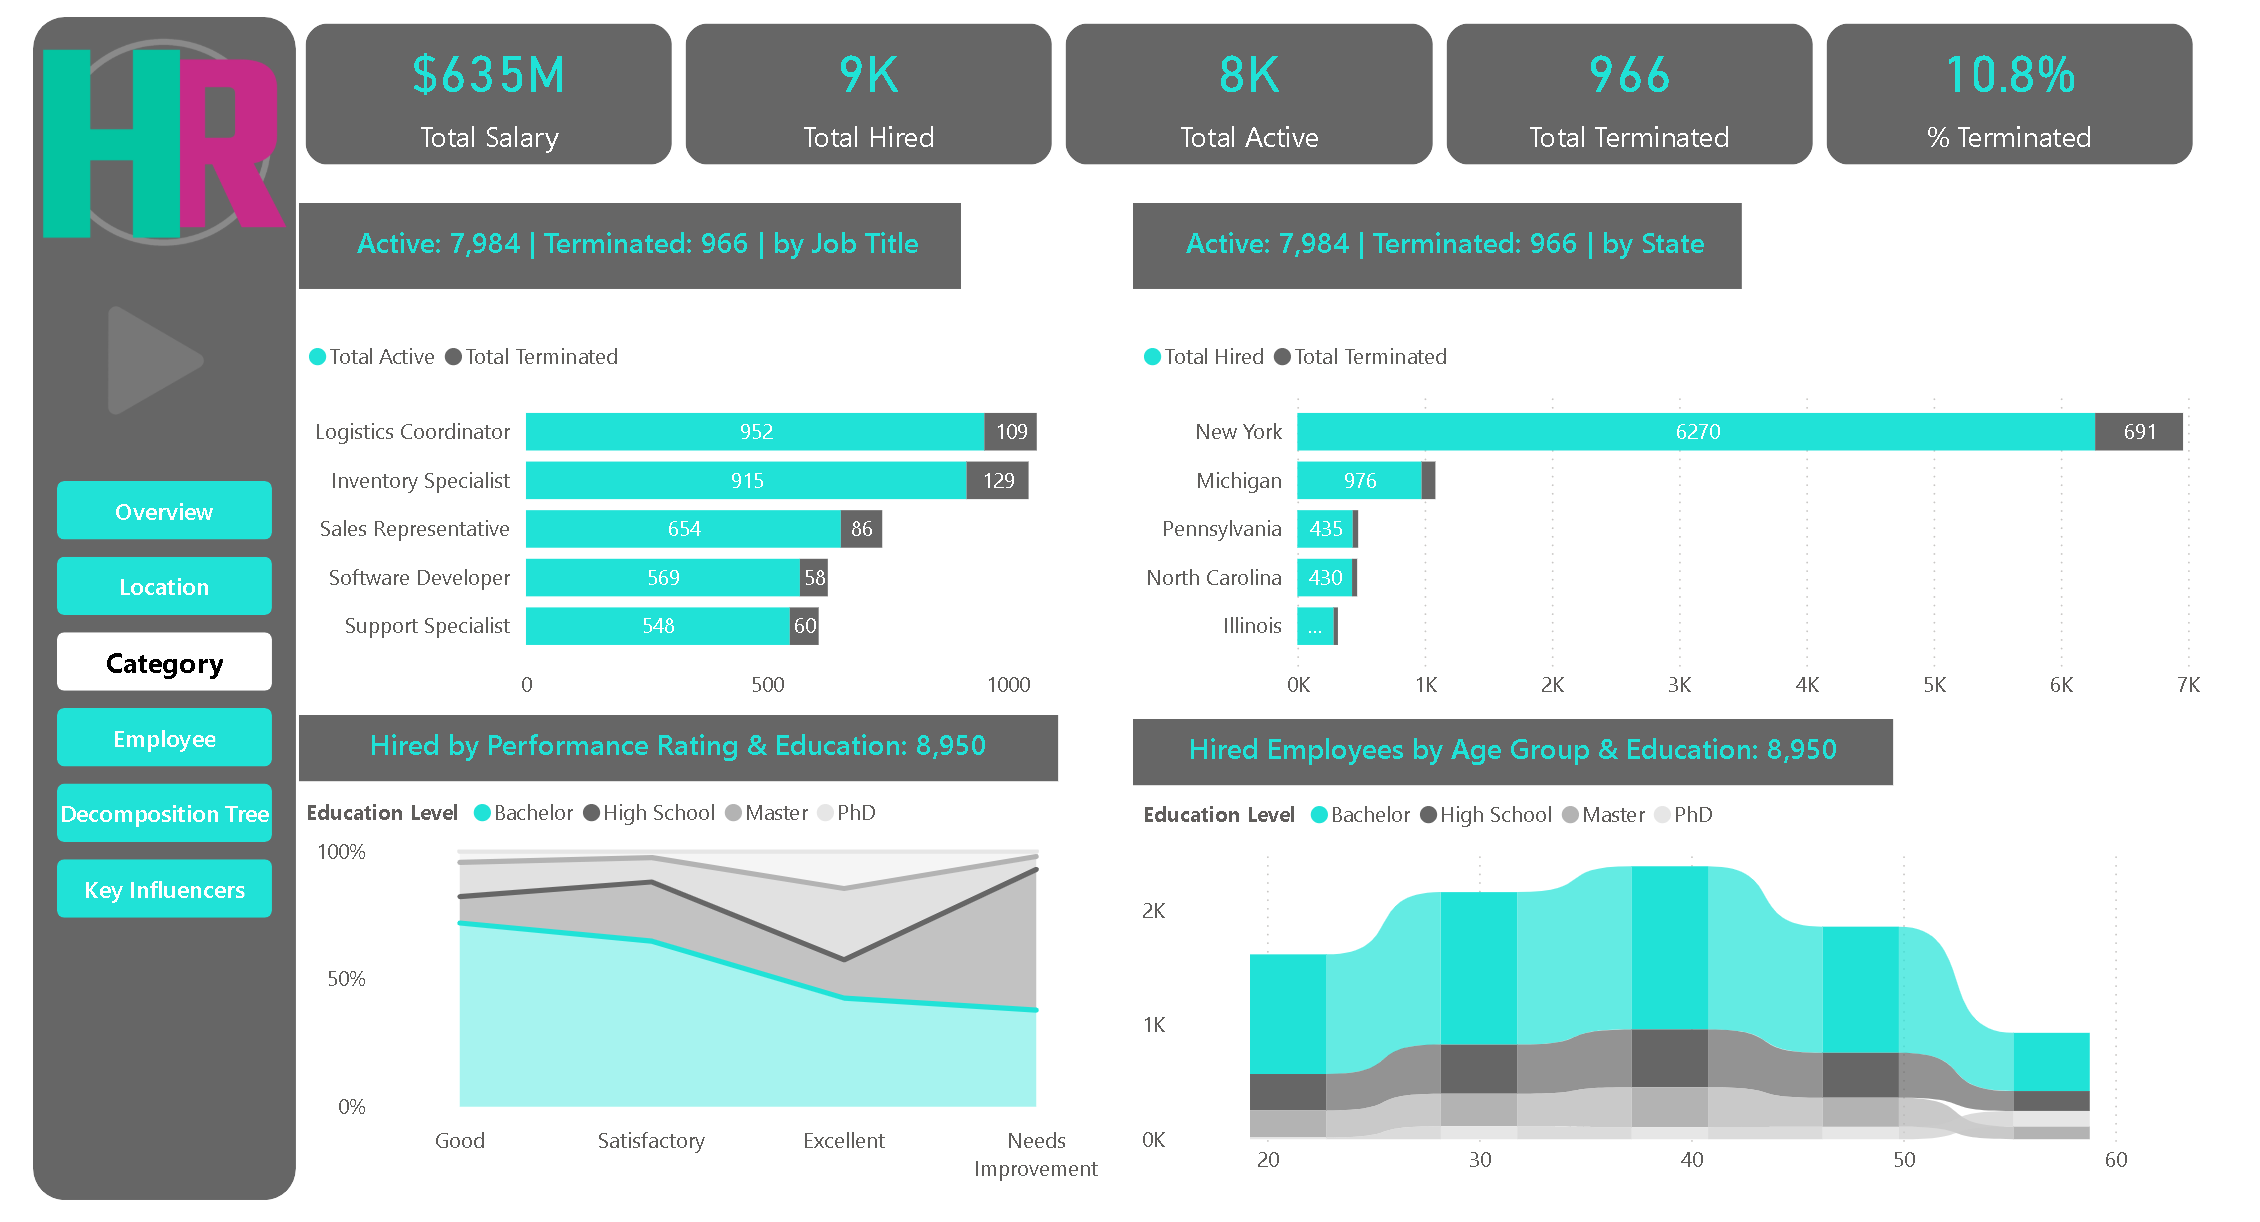

What the dashboard file says about the page in this screenshot:
{"tool":"powerbi","page":{"name":"Category","canvas":[1280,720],"ordinal":2},"visuals":[{"type":"shape","box":[0,18.5,152.9,688.1],"z":0},{"type":"cardVisual","fields":{"Data":["DAX Measures.Total Salary","DAX Measures.Total Hired","DAX Measures.Total Active","DAX Measures.Total Terminated","DAX Measures.% Terminated"]},"box":[153.9,17.8,1111.5,92.4],"z":1000},{"type":"card","fields":{"Values":["DAX Measures.HiredTerminatedTitle"]},"box":[155,126.7,385,50],"z":2000},{"type":"image","box":[0,18.3,153.3,145],"z":3000},{"type":"barChart","fields":{"Category":["HumanResources.Job Title"],"Y":["DAX Measures.Total Active","DAX Measures.Total Terminated"]},"box":[155,196.7,485,228.3],"z":4000},{"type":"barChart","fields":{"Y":["DAX Measures.Total Hired","DAX Measures.Total Terminated"],"Category":["HumanResources.State"]},"box":[640,196.7,625,228.3],"z":5000},{"type":"card","fields":{"Values":["DAX Measures.Hired Terminated by State"]},"box":[640,126.7,353.3,50],"z":6000},{"type":"ribbonChart","fields":{"Category":["HumanResources.Age (bins)"],"Y":["DAX Measures.Total Hired"],"Series":["HumanResources.Education Level"]},"box":[640,463.3,625,238.3],"z":7000},{"type":"hundredPercentStackedAreaChart","fields":{"Category":["HumanResources.Performance Rating"],"Y":["DAX Measures.Total Hired"],"Series":["HumanResources.Education Level"]},"box":[153.3,461.7,486.7,241.7],"z":8000},{"type":"card","fields":{"Values":["DAX Measures.HiredTitle_Performance_Education"]},"box":[155,425,441.7,38.3],"z":9000},{"type":"card","fields":{"Values":["DAX Measures.Title_AgeGroup_Education"]},"box":[640,426.7,441.7,38.3],"z":10000},{"type":"pageNavigator","box":[14.5,288.7,125.2,254.4],"z":11000},{"type":"image","box":[25,181.9,92.3,73.8],"z":13000}]}

Visuals, with their boxes on the page's 1280x720 design canvas (x1, y1, x2, y2). These are canvas units, not pixel positions in the 2260x1222 screenshot, which may show the page scaled, cropped or inside an application window:
shape: box(0, 18, 153, 707)
cardVisual - DAX Measures.Total Salary x DAX Measures.Total Hired: box(154, 18, 1265, 110)
card - DAX Measures.HiredTerminatedTitle: box(155, 127, 540, 177)
image: box(0, 18, 153, 163)
barChart - HumanResources.Job Title x DAX Measures.Total Active: box(155, 197, 640, 425)
barChart - DAX Measures.Total Hired x DAX Measures.Total Terminated: box(640, 197, 1265, 425)
card - DAX Measures.Hired Terminated by State: box(640, 127, 993, 177)
ribbonChart - HumanResources.Age (bins) x DAX Measures.Total Hired: box(640, 463, 1265, 702)
hundredPercentStackedAreaChart - HumanResources.Performance Rating x DAX Measures.Total Hired: box(153, 462, 640, 703)
card - DAX Measures.HiredTitle_Performance_Education: box(155, 425, 597, 463)
card - DAX Measures.Title_AgeGroup_Education: box(640, 427, 1082, 465)
pageNavigator: box(14, 289, 140, 543)
image: box(25, 182, 117, 256)
